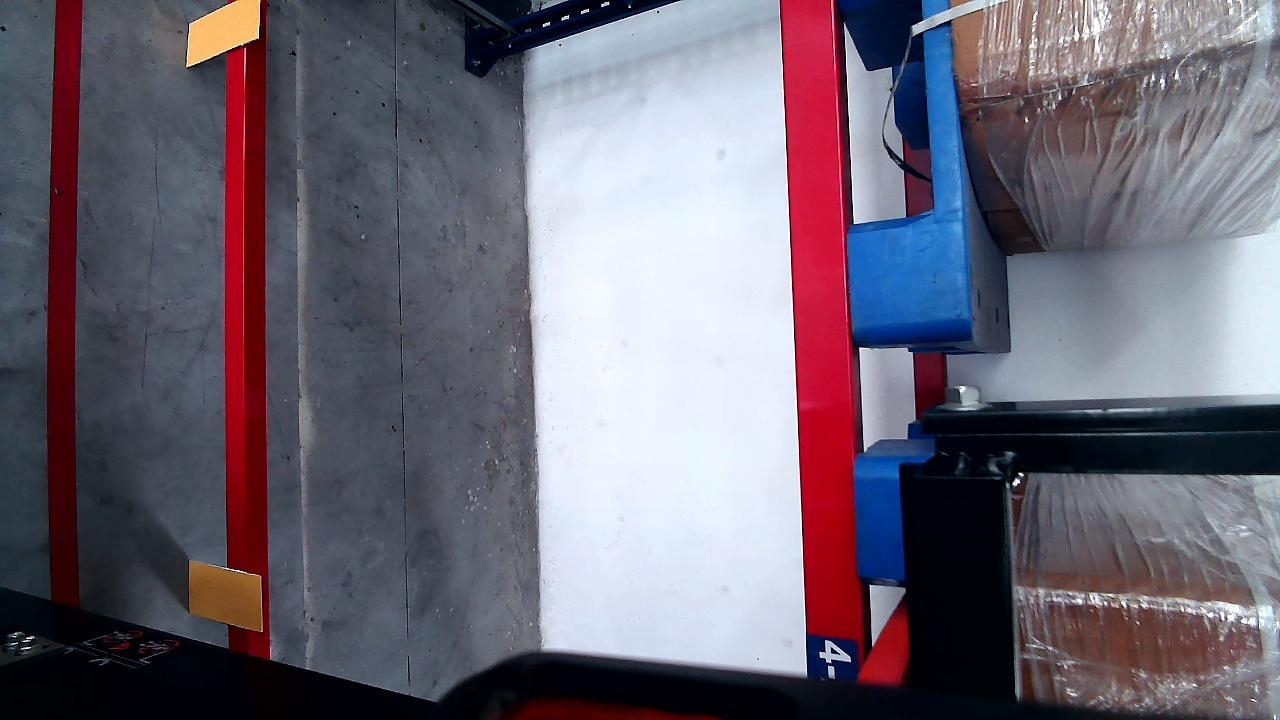red_line: (40, 0, 84, 601)
